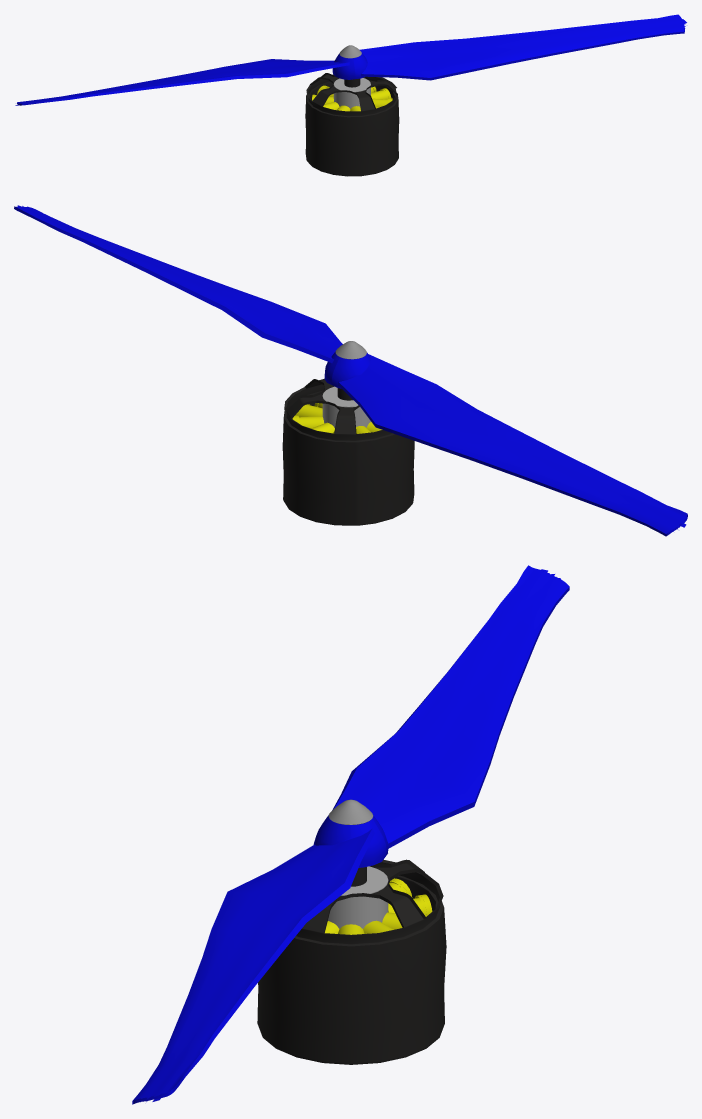
Rendered from motor_type_12.fbx.
3 views of the same model, one above another, from view 1: azimuth 30°, elevation 25°; view 2: azimuth 150°, elevation 25°; view 3: azimuth 270°, elevation 25° (orthographic). The views are drawn at different scales.
Visible parts, largest first — view 1: polySurface35, pCylinder34, pCylinder35; view 2: polySurface35, pCylinder34, pCylinder35; view 3: polySurface35, pCylinder34, pCylinder35, polySurface36.
Part boxes in pixels (x1,y1,x2,y2): polySurface35: [15, 14, 686, 105]; pCylinder34: [305, 73, 399, 176]; pCylinder35: [333, 78, 370, 108]; polySurface35: [14, 205, 687, 536]; pCylinder34: [282, 378, 414, 525]; pCylinder35: [322, 386, 370, 427]; polySurface35: [132, 565, 569, 1104]; pCylinder34: [257, 859, 446, 1064]; pCylinder35: [328, 866, 388, 928]; polySurface36: [328, 799, 373, 824].
Size of the model in its own units: 17.81 by 3.32 by 5.89.
